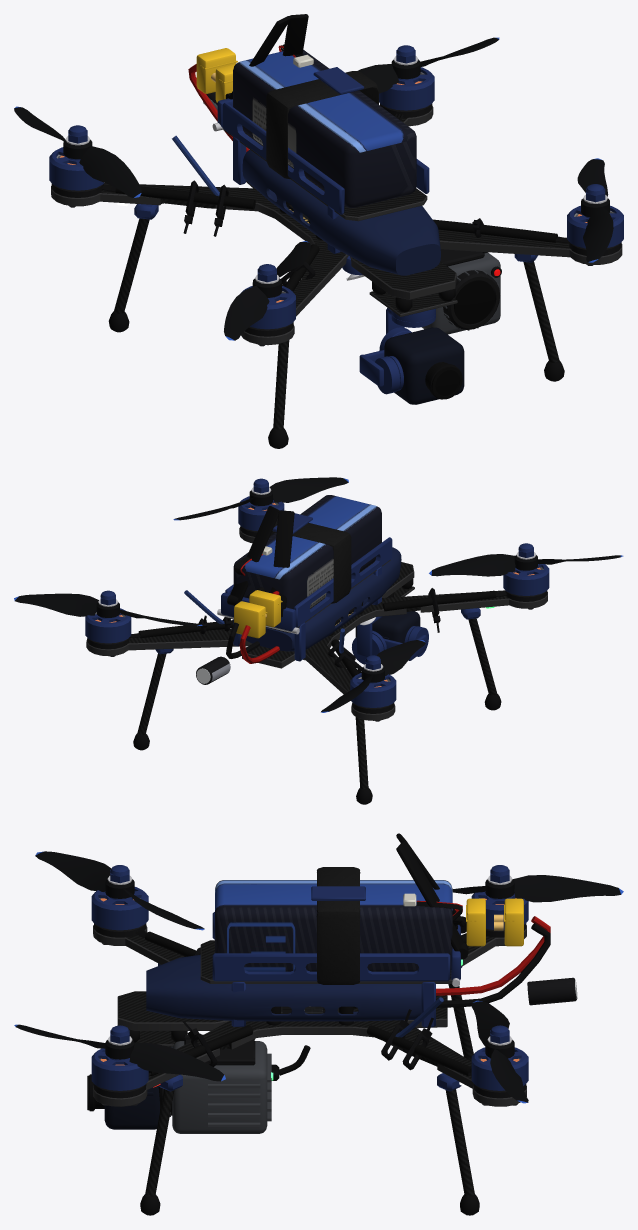
The model's file is nightowl_a.glb.
The picture shows the model from 3 angles, top to bottom: view 1: azimuth 30°, elevation 25°; view 2: azimuth 150°, elevation 25°; view 3: azimuth 270°, elevation 25°; orthographic projection. The views are drawn at different scales.
Visible parts, largest first — view 1: body, battery, gimbal_pitch, prop_rr, nv_pod, prop_fr, prop_fl, prop_rl, nv_lens, gimbal_roll, gimbal_yaw; view 2: body, battery, prop_fr, prop_rl, prop_fl, prop_rr, gimbal_pitch, gimbal_yaw, gimbal_roll; view 3: body, battery, nv_pod, prop_fl, prop_rr, prop_fr, prop_rl, gimbal_pitch.
Boxes of the visible parts, left/top/right/bottom form: body: left=49, top=14, right=623, bottom=448; battery: left=211, top=44, right=416, bottom=207; gimbal_pitch: left=384, top=327, right=464, bottom=404; prop_rr: left=14, top=106, right=141, bottom=198; nv_pod: left=422, top=249, right=501, bottom=334; prop_fr: left=224, top=241, right=310, bottom=340; prop_fl: left=577, top=158, right=613, bottom=262; prop_rl: left=357, top=37, right=499, bottom=93; nv_lens: left=454, top=280, right=495, bottom=324; gimbal_roll: left=359, top=331, right=410, bottom=394; gimbal_yaw: left=379, top=307, right=435, bottom=350; body: left=85, top=496, right=549, bottom=804; battery: left=233, top=495, right=381, bottom=626; prop_fr: left=429, top=543, right=623, bottom=576; prop_rl: left=14, top=590, right=202, bottom=626; prop_fl: left=173, top=477, right=348, bottom=520; prop_rr: left=321, top=640, right=425, bottom=712; gimbal_pitch: left=355, top=611, right=420, bottom=643; gimbal_yaw: left=352, top=616, right=383, bottom=664; gimbal_roll: left=372, top=626, right=428, bottom=660; body: left=91, top=833, right=577, bottom=1215; battery: left=215, top=880, right=503, bottom=971; nv_pod: left=160, top=1034, right=310, bottom=1133; prop_fl: left=14, top=1024, right=225, bottom=1081; prop_rr: left=452, top=865, right=623, bottom=902; prop_fr: left=35, top=851, right=204, bottom=930; prop_rl: left=471, top=1000, right=528, bottom=1103; gimbal_pitch: left=87, top=1074, right=159, bottom=1129.
Size of the model in its own units: 0.2501 by 0.1419 by 0.2569.
47 materials, 4 textured.
